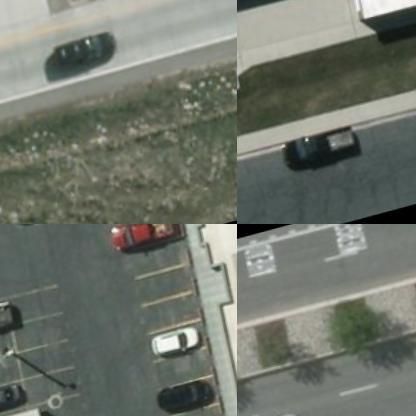car: (285, 123, 362, 185), (50, 30, 121, 72), (110, 224, 184, 261), (148, 328, 202, 364), (156, 385, 211, 415), (0, 384, 23, 415)
